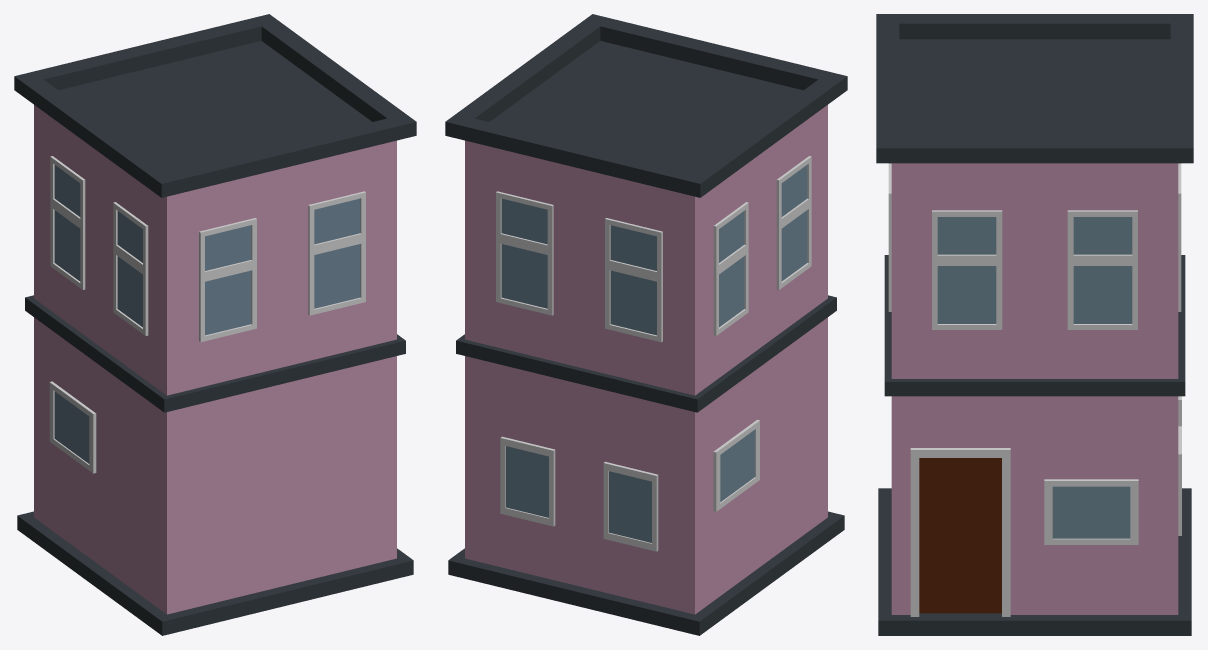
Rendered from 1x1 light pink.fbx.
3 renders of one model, left to right at view 1: azimuth 30°, elevation 25°; view 2: azimuth 150°, elevation 25°; view 3: azimuth 270°, elevation 25°, orthographic. The views are drawn at different scales.
Parts seen in each view (by area): view 1: 1x1 light pink; view 2: 1x1 light pink; view 3: 1x1 light pink.
Boxes of the visible parts, x1=… form: 1x1 light pink: x1=14, y1=14, x2=416, y2=635; 1x1 light pink: x1=445, y1=14, x2=847, y2=635; 1x1 light pink: x1=876, y1=14, x2=1193, y2=635.
Bounding box in the file's own units: 3.74 × 6.35 × 3.74.
